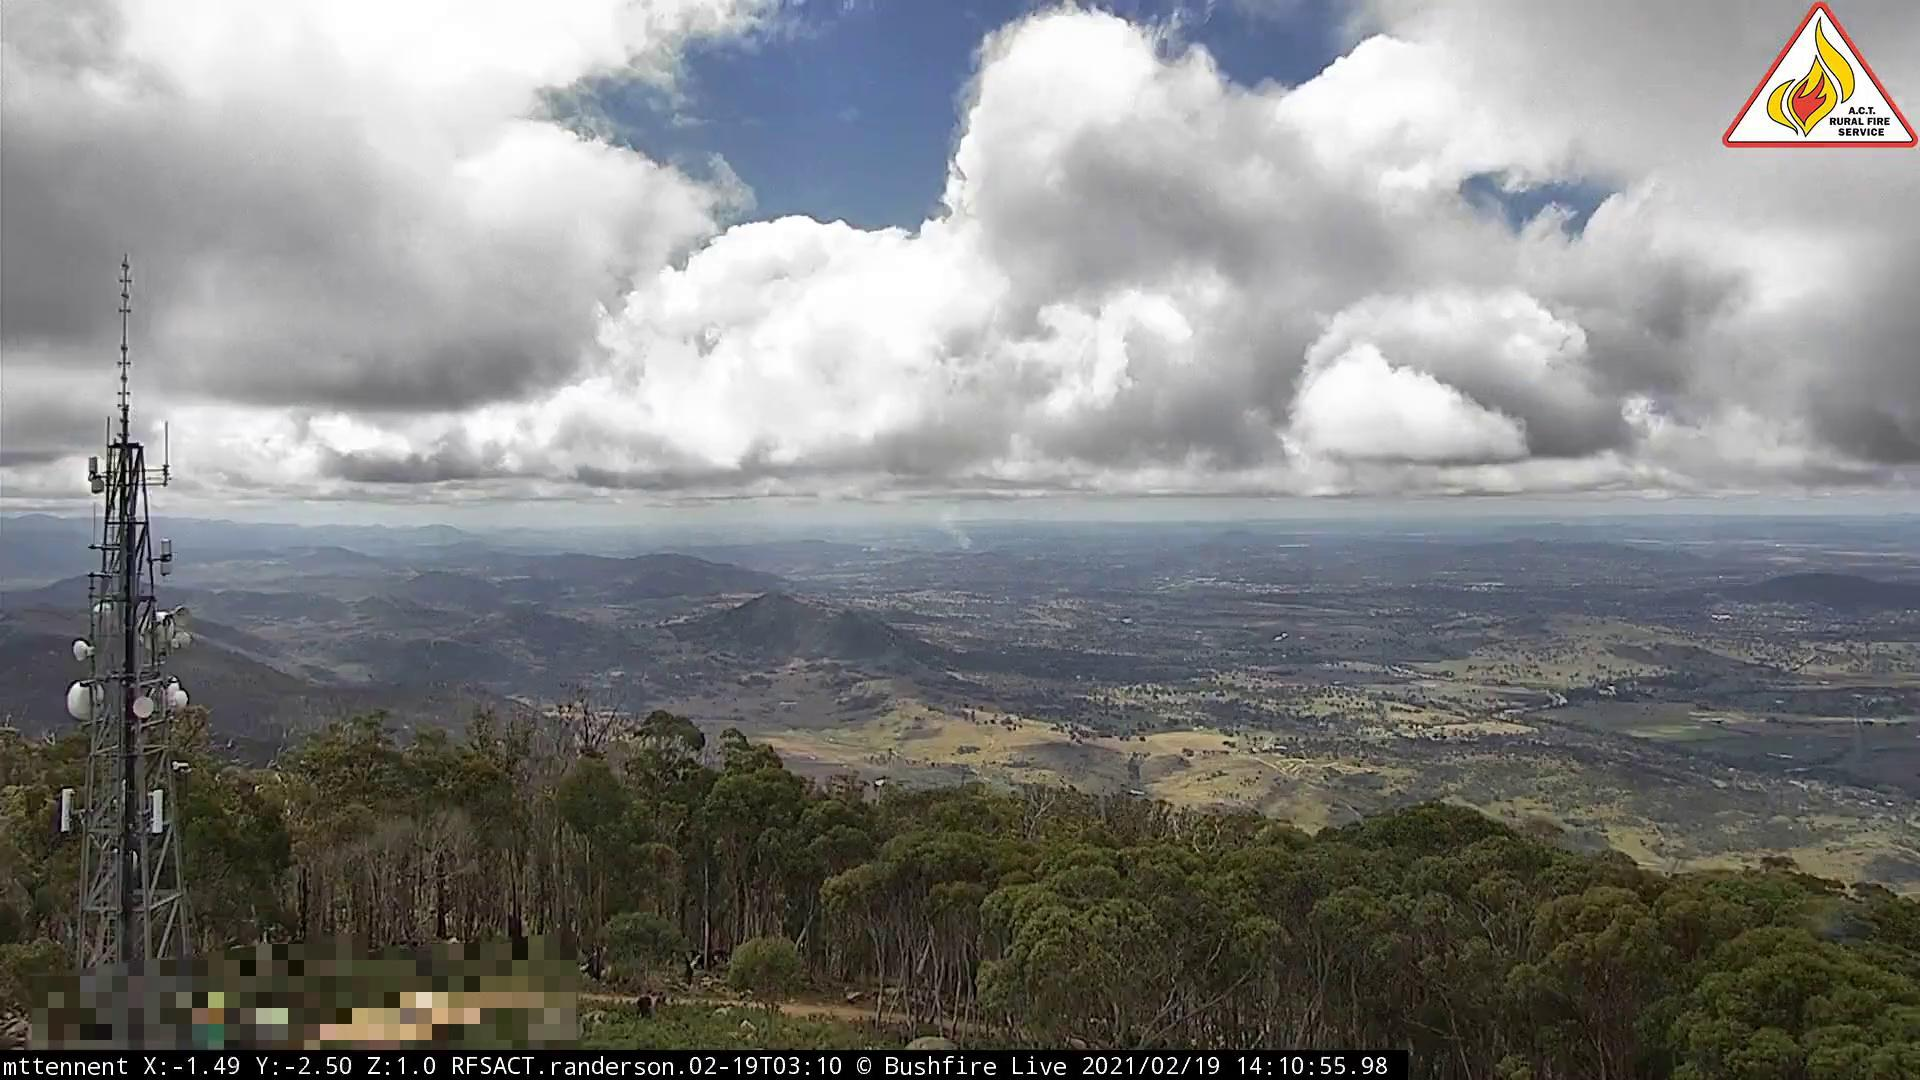instance_salient_object: (934, 512, 982, 558)
